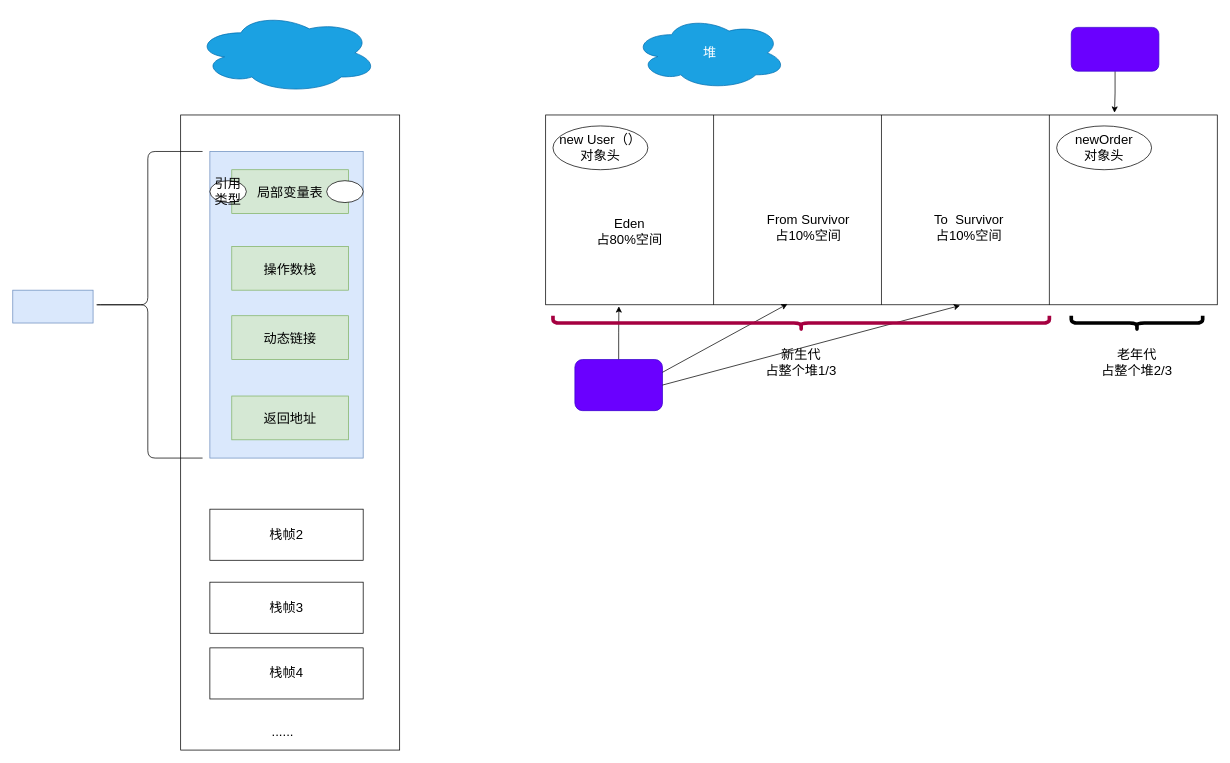
The diagram is 1230 pixels wide and 763 high, and some of its shapes have lost their labels. The shapes that lost their labels are listed below. From the top down, each one's centre as x and y in pixels, then its label:
(286,52): 虚拟机栈 方法栈 线程栈
(1115,49): Full GC
(344,191): 基本类型
(52,306): 一个方法 一个栈帧
(618,385): Minor GC
